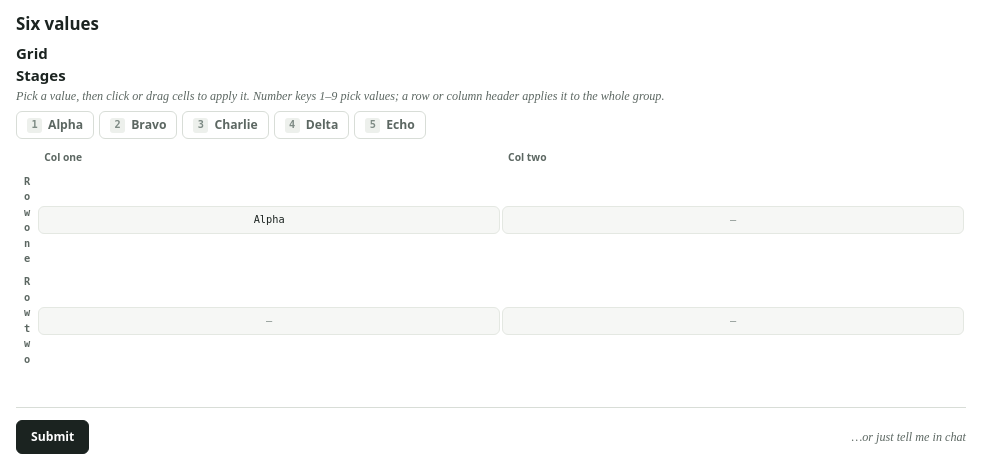
Scenario: paint mode › skips the cells a constraint forbids, and says how many
The width and height of the screenshot is (983, 473).
What coordinates should you click on to do the following:
click the radio button labelled "2 Bravo"
I would click on:
 (138, 125)
Its box is [99,111,178,139].
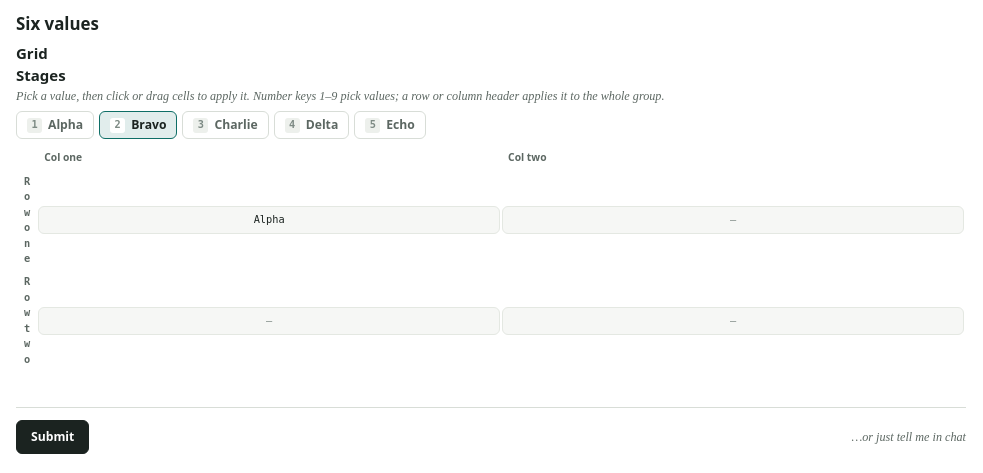
// `r2/c2` allows only "a", so the second column's bulk apply skips one.
What coordinates should you click on to do the following:
click the button titled "Bulk-apply to this column"
I would click on:
 (527, 158)
Its box is [502,147,552,169].
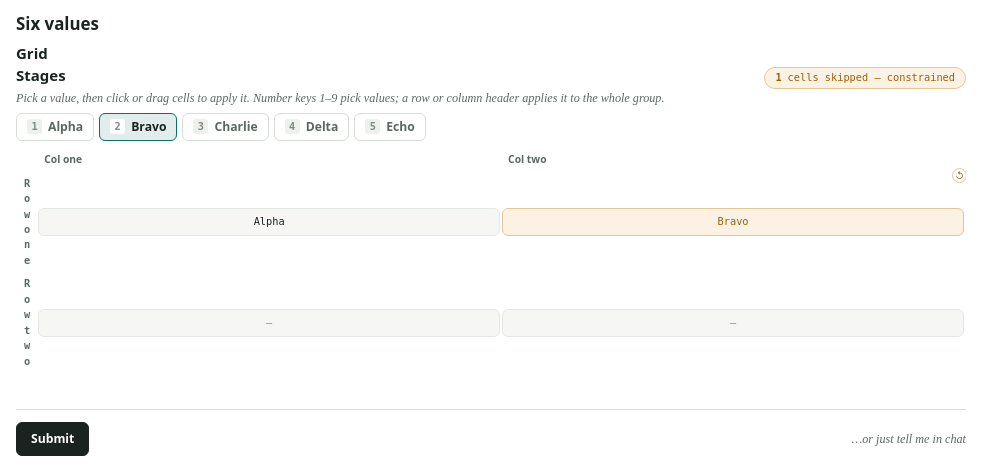
Expected: the element labelled "1 cells skipped — constrained" is shown, [764,67,966,89]
